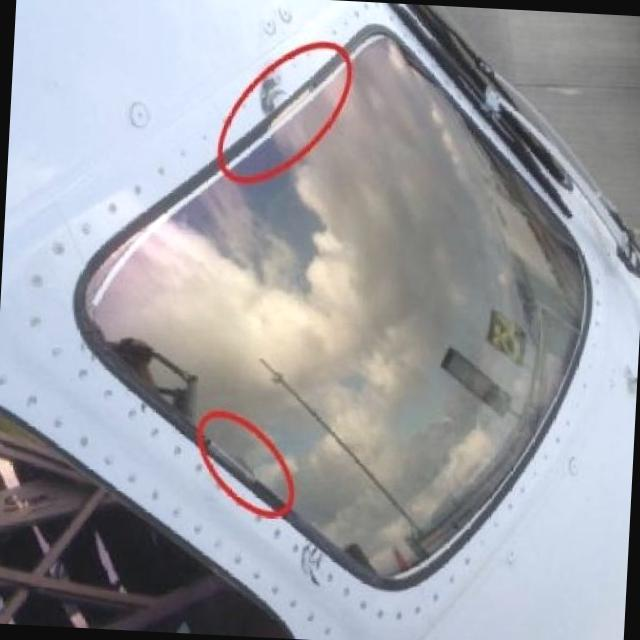crack: (298, 542, 326, 586)
